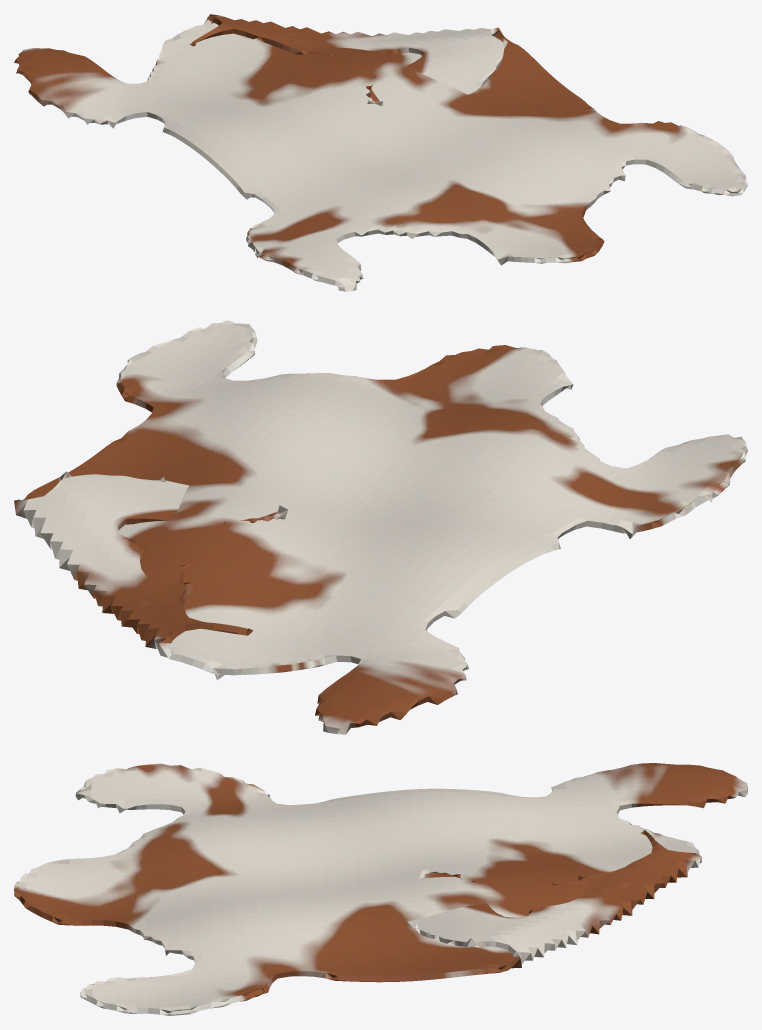
Rendered from kuhhaut.glb.
3 renders of one model, top to bottom at view 1: azimuth 30°, elevation 25°; view 2: azimuth 150°, elevation 25°; view 3: azimuth 270°, elevation 25°, orthographic. The views are drawn at different scales.
Visible parts, largest first — view 1: kuhhaut; view 2: kuhhaut; view 3: kuhhaut.
Boxes of the visible parts, x1,y1,x2,y2 form: kuhhaut: [14, 14, 747, 291]; kuhhaut: [14, 320, 747, 734]; kuhhaut: [14, 763, 747, 1015].
Size of the model in its own units: 0.712 by 0.0584 by 0.9148.
Materials: 1 (1 with a texture image).
